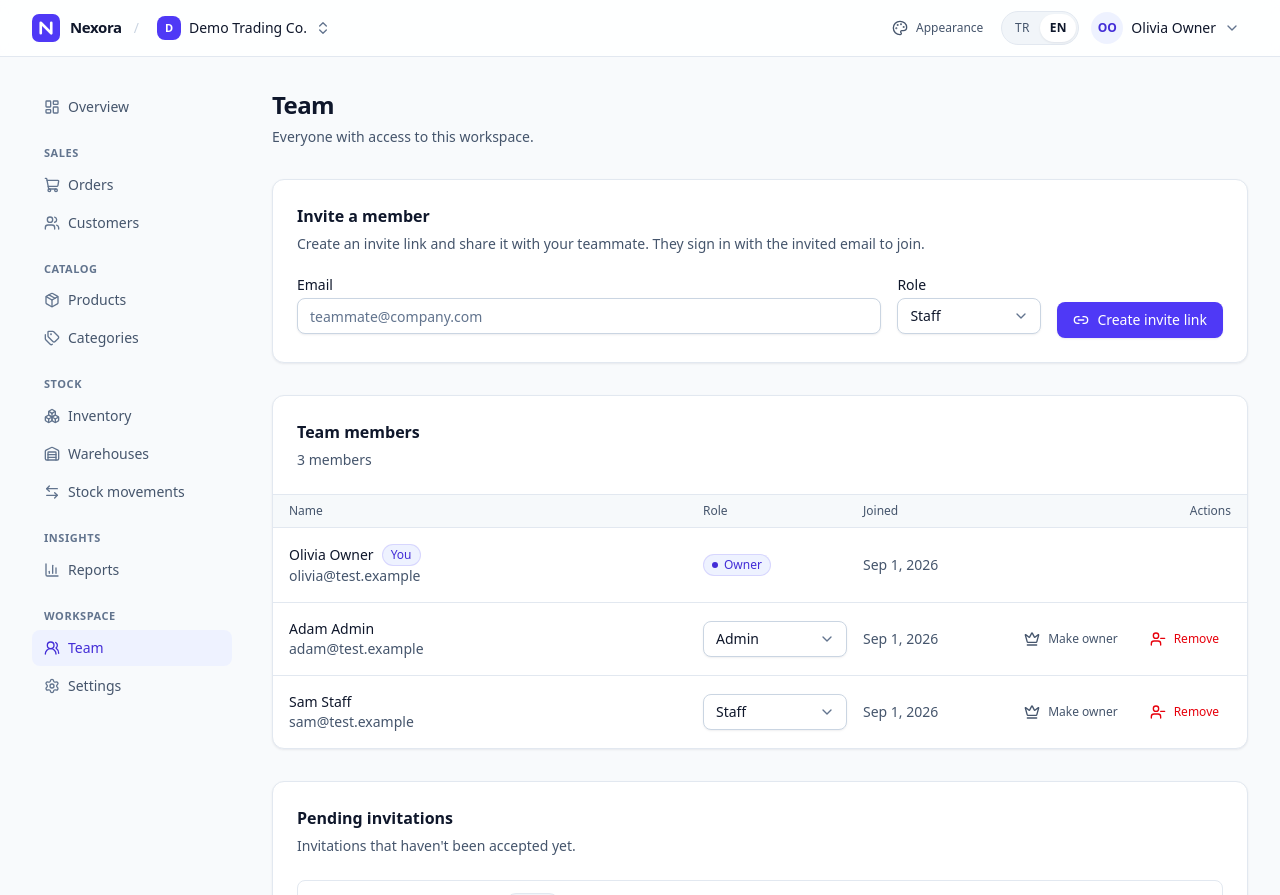
TeamPage › transfers ownership after confirmation and reflects the new role
Click the button "Make owner" in the row of "Adam Admin". click: (1071,639)
box: [1012,623,1130,655]
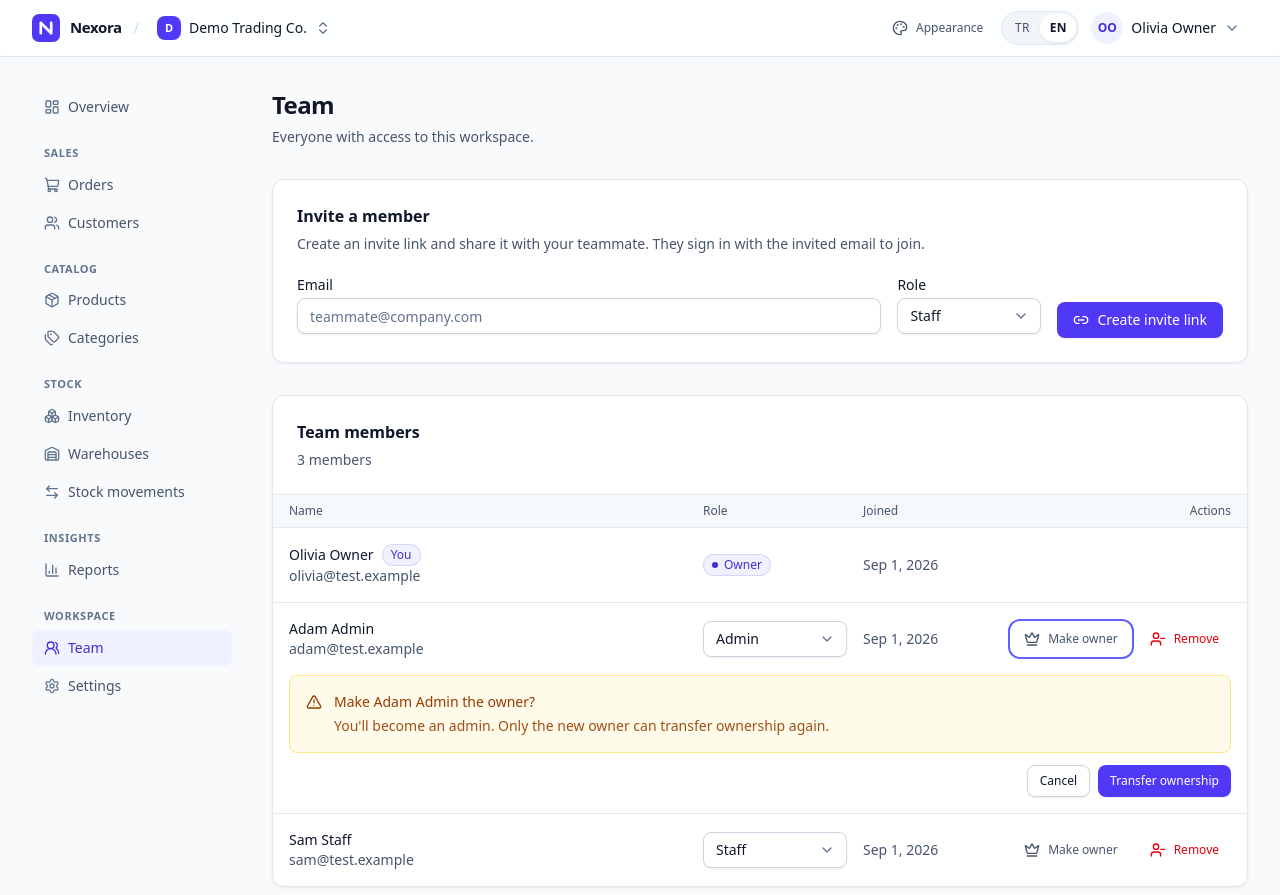
Now the text "Make Adam Admin the owner?" is shown, box [334,692,535,711]
Click the button "Transfer ownership". click: (1165,781)
box: [1098,765,1231,797]
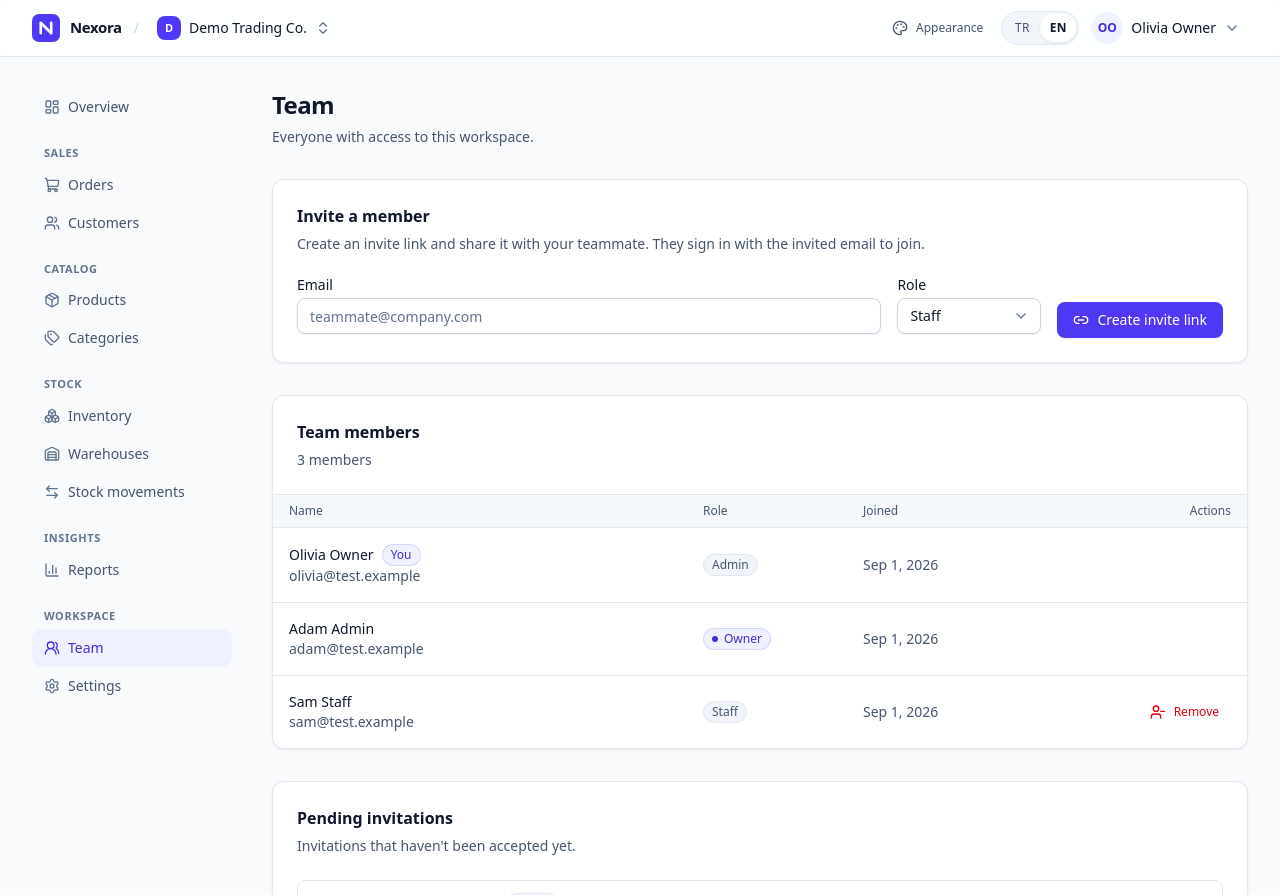
Expected: the text "Owner" is shown, [703,628,771,650]
Now the button "Make owner" is gone
